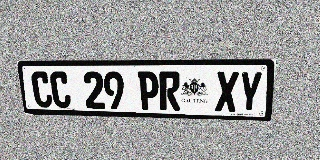2: (83, 71, 105, 109)
9: (103, 71, 125, 109)
C: (30, 71, 53, 108), (49, 71, 72, 108)
P: (138, 71, 159, 110)
R: (159, 72, 180, 111)
X: (215, 72, 239, 112)
Y: (238, 72, 263, 112)
